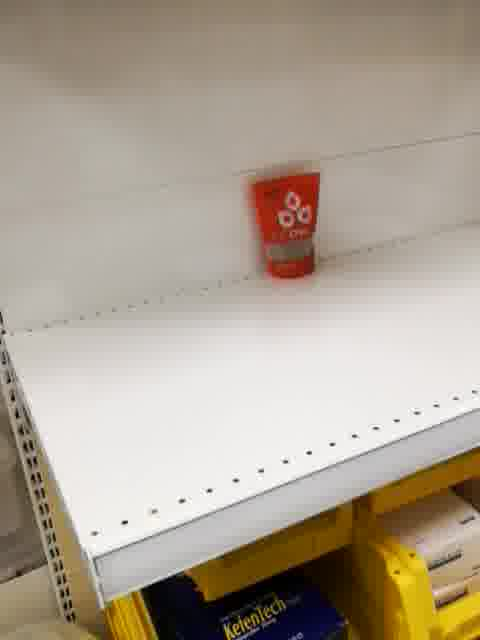whitechia: (246, 171, 322, 281)
